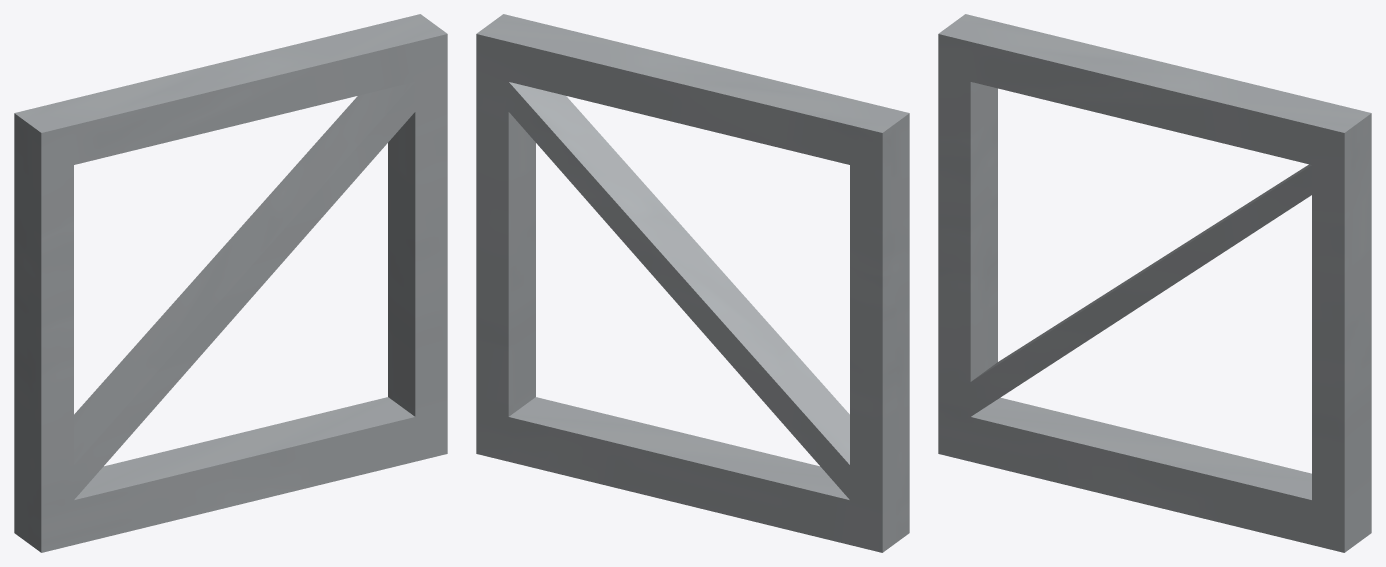
File: Tutorial_CrossBit_Shelf.fbx
The picture shows the model from 3 angles, left to right: view 1: azimuth 30°, elevation 25°; view 2: azimuth 150°, elevation 25°; view 3: azimuth 330°, elevation 25°; orthographic projection.
Visible parts, largest first — view 1: polySurface2; view 2: polySurface2; view 3: polySurface2.
Part boxes in pixels (x1,y1,x2,y2): polySurface2: (14,14,447,552); polySurface2: (476,14,909,552); polySurface2: (938,14,1371,552).
Size of the model in its own units: 3.42 by 3.38 by 0.3968.
